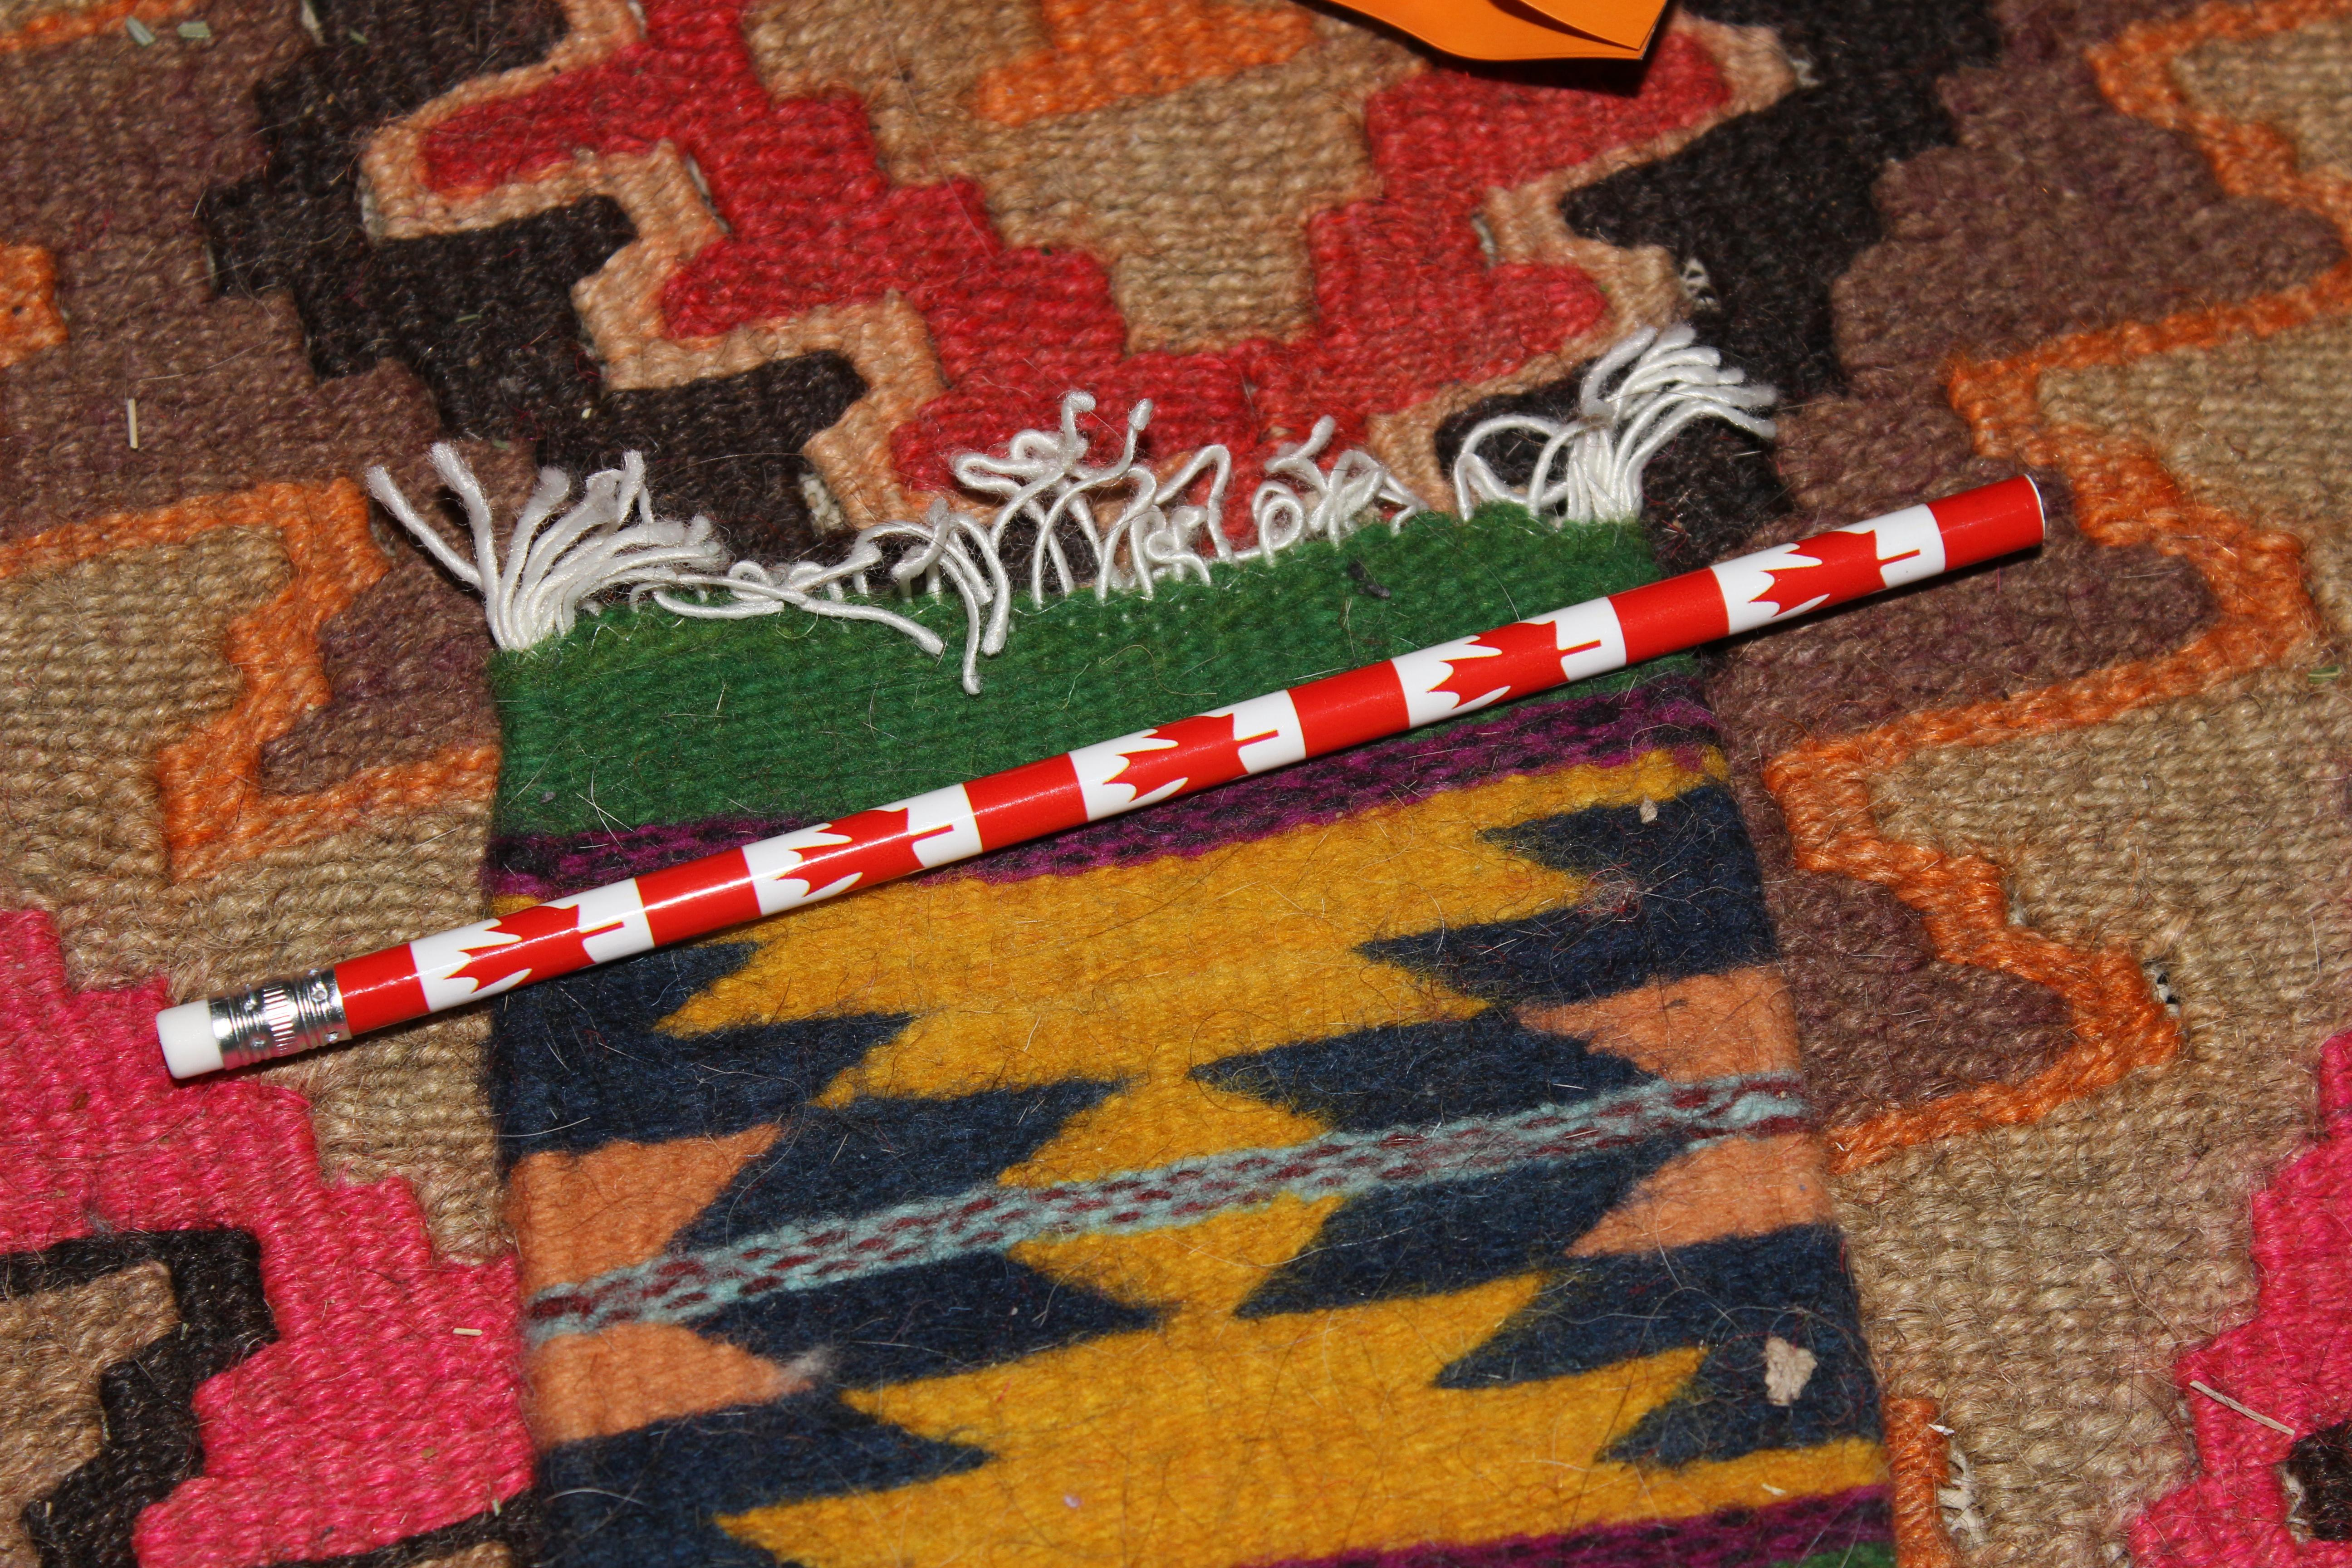canadaPencil: (135, 446, 2104, 1109)
